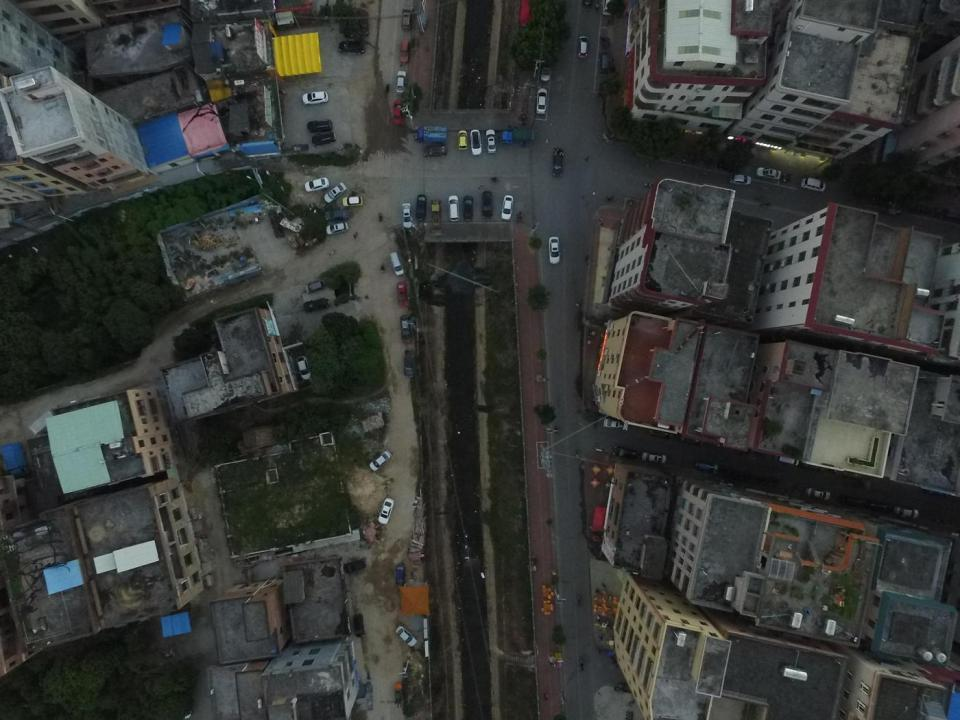car: (323, 182, 347, 204), (369, 450, 392, 472), (395, 625, 417, 647), (377, 497, 394, 525), (336, 40, 364, 56), (303, 177, 330, 193), (303, 298, 331, 313), (296, 355, 312, 381), (301, 91, 328, 106), (603, 417, 629, 432), (324, 208, 350, 222), (481, 190, 494, 218), (423, 144, 449, 158), (552, 147, 564, 177), (548, 237, 561, 264), (311, 133, 336, 147), (612, 445, 637, 459), (403, 348, 415, 377), (500, 194, 513, 220), (641, 450, 667, 463), (396, 281, 409, 307), (400, 4, 412, 32), (343, 559, 367, 573), (729, 172, 751, 187), (325, 222, 350, 235), (694, 460, 719, 473), (306, 120, 332, 132), (470, 130, 482, 156), (415, 194, 426, 222), (400, 314, 411, 342), (756, 167, 781, 179), (304, 280, 325, 294), (398, 40, 410, 64), (540, 58, 552, 82), (353, 614, 365, 638), (395, 69, 406, 95), (463, 195, 474, 221), (402, 202, 412, 230), (536, 87, 546, 114), (392, 100, 403, 124), (485, 130, 496, 154), (395, 564, 406, 586), (578, 35, 588, 59), (342, 196, 363, 207), (457, 130, 468, 151)
truck: (499, 128, 535, 148), (414, 124, 448, 144)
van: (801, 176, 826, 193), (447, 195, 460, 223), (389, 252, 404, 276), (599, 52, 609, 74)
